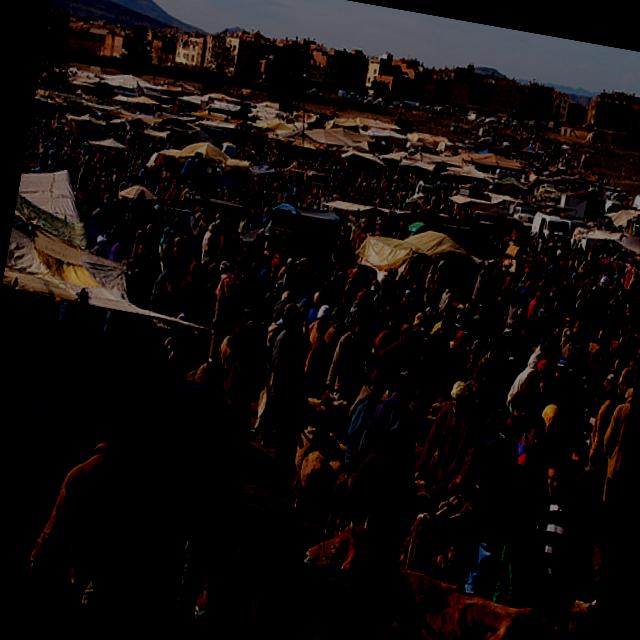Vehicle: (179, 157, 241, 193), (596, 260, 628, 284), (300, 168, 327, 196), (510, 205, 534, 230), (494, 168, 521, 181)
